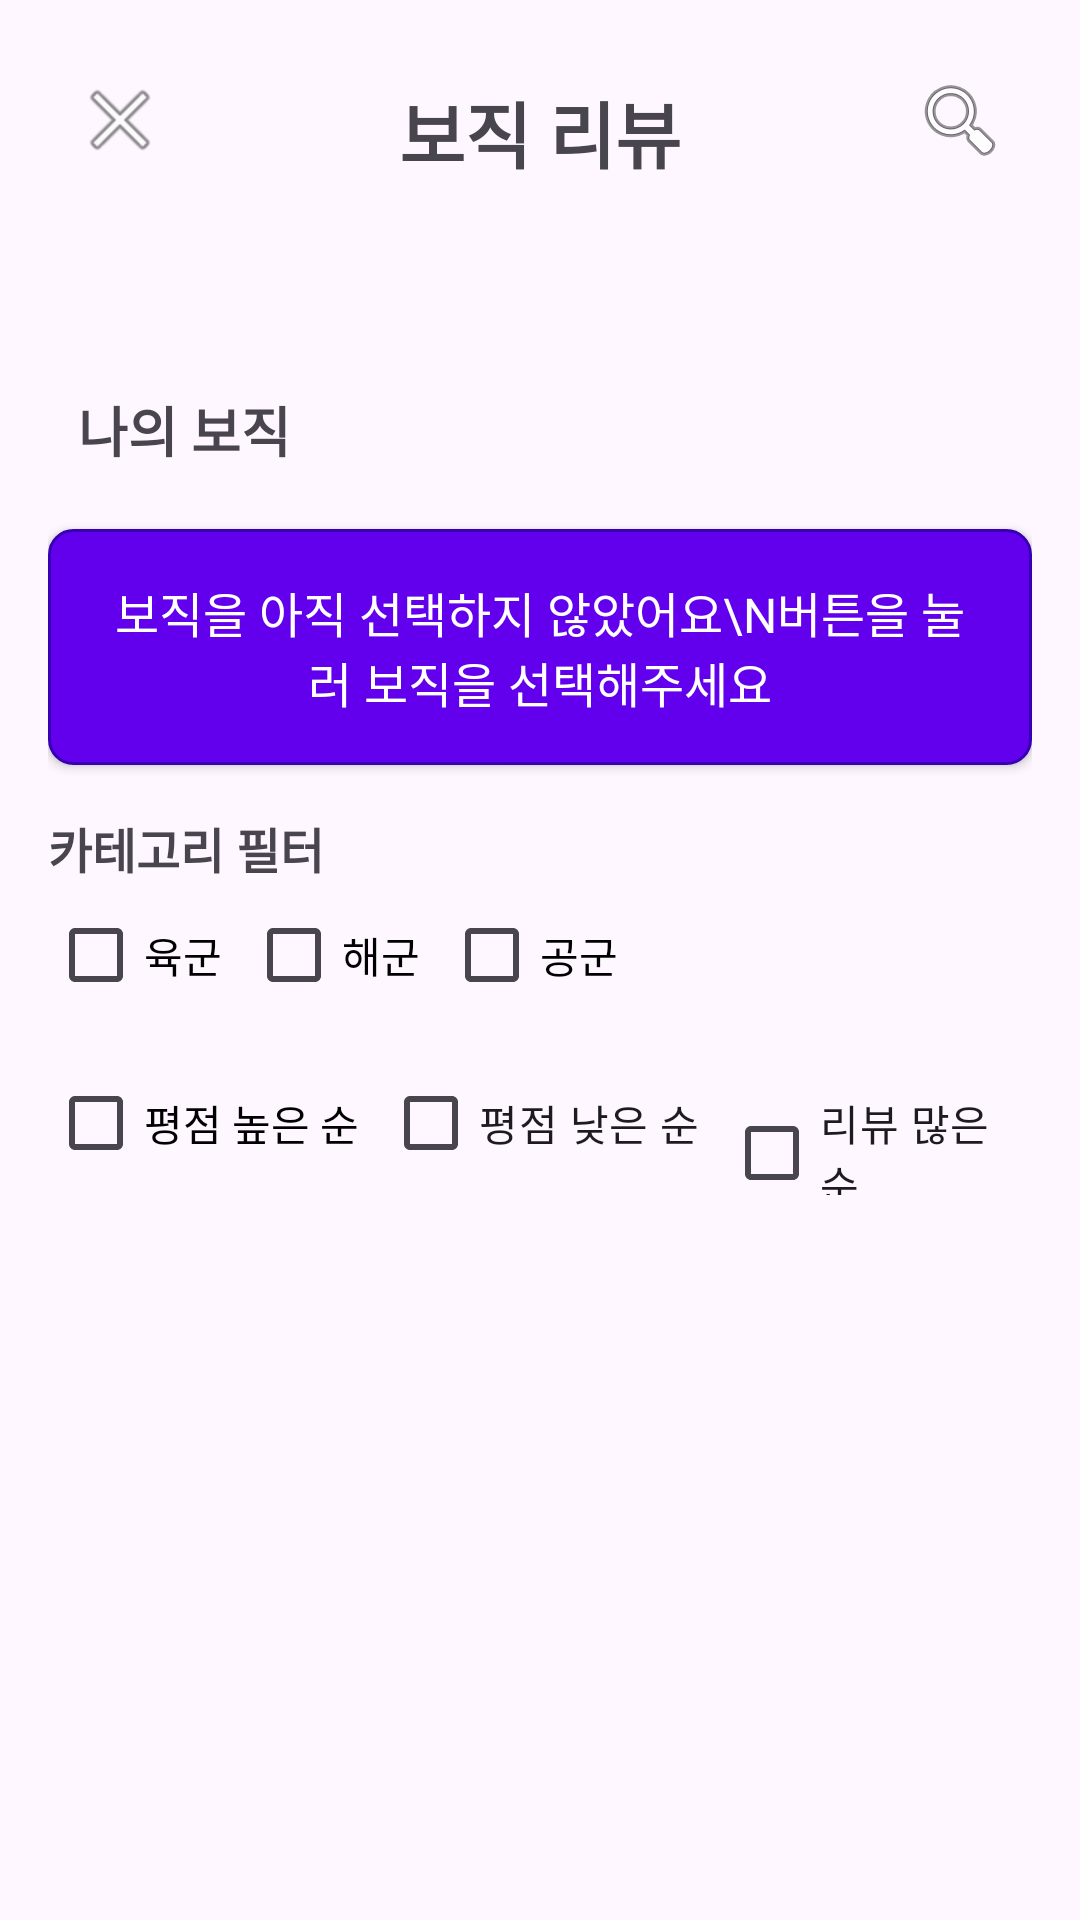

Icons on this 1080×1920 Android screen, each with the point to tap as [x,y]:
검색 버튼: [960,120]
